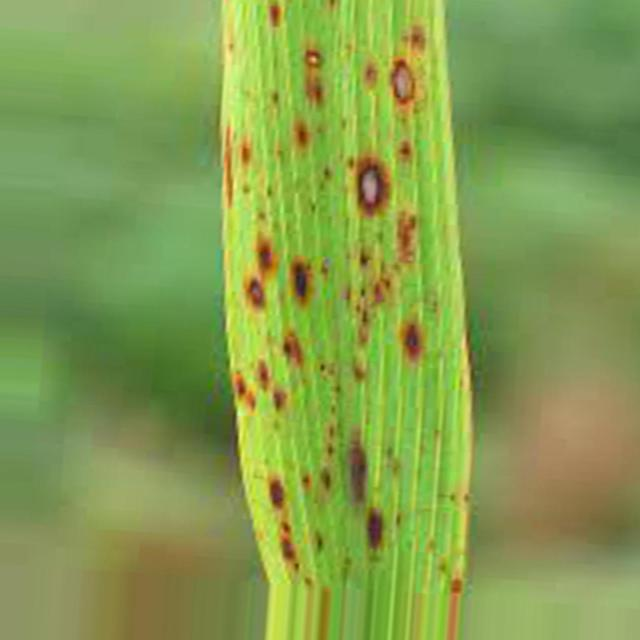Brown_Spot: (356, 155, 390, 218), (390, 55, 422, 111), (348, 428, 368, 504), (289, 255, 314, 308), (302, 48, 325, 104), (318, 421, 344, 465), (351, 298, 376, 342), (400, 321, 424, 364), (222, 126, 234, 209), (232, 372, 256, 411), (398, 211, 416, 262), (280, 525, 299, 571), (401, 25, 426, 58), (244, 274, 266, 309), (369, 270, 392, 302), (282, 332, 302, 366), (349, 350, 368, 384), (268, 475, 285, 510), (368, 508, 382, 549), (362, 60, 380, 90), (258, 236, 274, 269), (268, 4, 289, 29), (318, 465, 332, 502), (255, 359, 271, 390), (239, 136, 252, 168), (272, 388, 290, 411), (319, 165, 335, 189), (398, 139, 414, 162), (319, 361, 335, 381), (301, 472, 312, 494), (296, 126, 309, 144), (321, 258, 331, 279), (315, 531, 324, 551), (360, 252, 371, 268), (271, 90, 280, 104), (327, 0, 339, 10)
